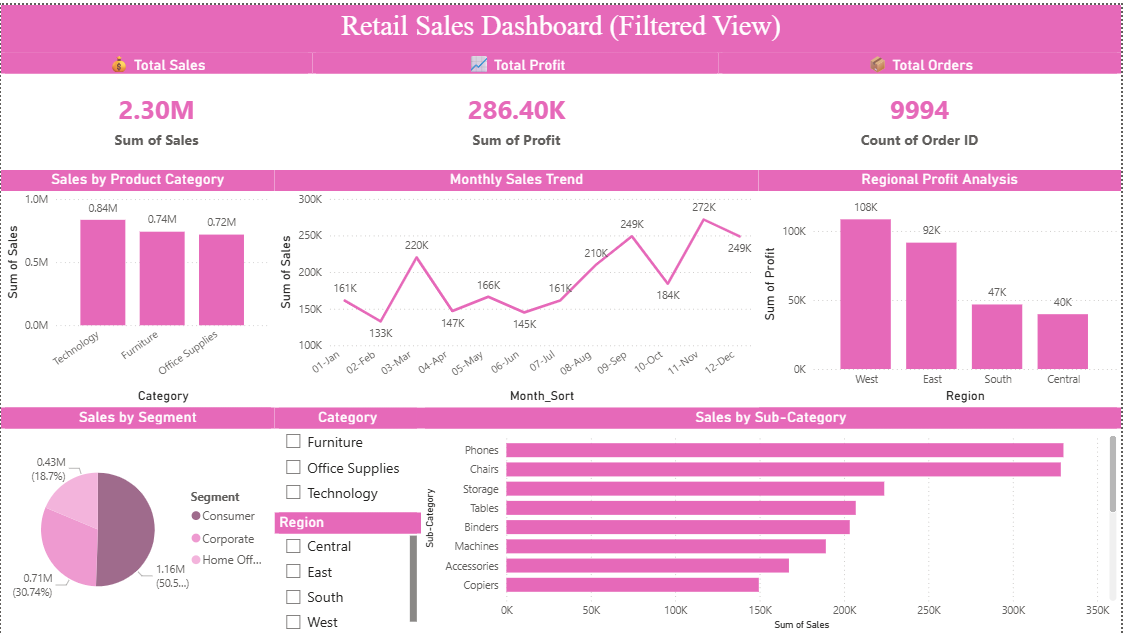

What the dashboard file says about the page in this screenshot:
{"tool":"powerbi","page":{"name":"Page 1","canvas":[1280,720],"ordinal":0},"visuals":[{"type":"card","title":"📈 Total Profit","fields":{"Values":["Sum(new_cleaned_data.Profit)"]},"box":[355.7,54.3,467.1,132.9],"z":0},{"type":"card","title":"📦 Total Orders","fields":{"Values":["CountNonNull(new_cleaned_data.Order ID)"]},"box":[820,54.3,460,134.3],"z":1000},{"type":"card","title":"💰 Total Sales","fields":{"Values":["Sum(new_cleaned_data.Sales)"]},"box":[0,54.3,355.7,134.3],"z":2000},{"type":"clusteredColumnChart","title":"Sales by Product Category","fields":{"Category":["new_cleaned_data.Category"],"Y":["Sum(new_cleaned_data.Sales)"]},"box":[0,188.6,312.9,271.4],"z":3000},{"type":"columnChart","title":"Regional Profit Analysis","fields":{"Y":["Sum(new_cleaned_data.Profit)"],"Category":["new_cleaned_data.Region"]},"box":[865.7,188.6,414.3,271.4],"z":4000},{"type":"donutChart","title":"Sales by Segment","fields":{"Y":["Sum(new_cleaned_data.Sales)"],"Category":["new_cleaned_data.Segment"]},"box":[0,460,312.9,260],"z":5000},{"type":"slicer","title":"Category","fields":{"Values":["new_cleaned_data.Category"]},"box":[312.9,460,167.1,120],"z":6000},{"type":"slicer","title":"Region","fields":{"Values":["new_cleaned_data.Region"]},"box":[312.9,580,167.1,140],"z":7000},{"type":"clusteredBarChart","title":" Sales by Sub-Category","fields":{"Category":["new_cleaned_data.Sub-Category"],"Y":["Sum(new_cleaned_data.Sales)"]},"box":[480,460,800,260],"z":8000},{"type":"lineChart","title":"Monthly Sales Trend","fields":{"Y":["Sum(new_cleaned_data.Sales)"],"Category":["new_cleaned_data.Month_Sort"]},"box":[312.9,188.6,552.9,271.4],"z":9000},{"type":"textbox","box":[0,0,1280,54.3],"z":10000}]}

Visuals, with their boxes in screenshot pixels (x1, y1, x2, y2), scaled from the page's 1280x720 canvas onto the 1124x635 screenshot:
"📈 Total Profit" card: bbox=[312, 48, 723, 165]
"📦 Total Orders" card: bbox=[720, 48, 1123, 166]
"💰 Total Sales" card: bbox=[0, 48, 312, 166]
"Sales by Product Category" clusteredColumnChart: bbox=[0, 166, 275, 406]
"Regional Profit Analysis" columnChart: bbox=[760, 166, 1123, 406]
"Sales by Segment" donutChart: bbox=[0, 406, 275, 634]
"Category" slicer: bbox=[275, 406, 422, 512]
"Region" slicer: bbox=[275, 512, 422, 634]
" Sales by Sub-Category" clusteredBarChart: bbox=[422, 406, 1123, 634]
"Monthly Sales Trend" lineChart: bbox=[275, 166, 760, 406]
textbox: bbox=[0, 0, 1123, 48]
